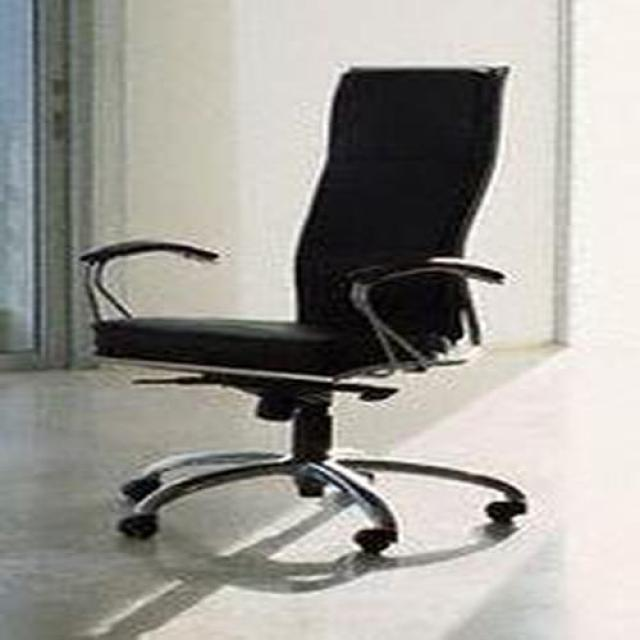swivelchair: (81, 64, 525, 561)
